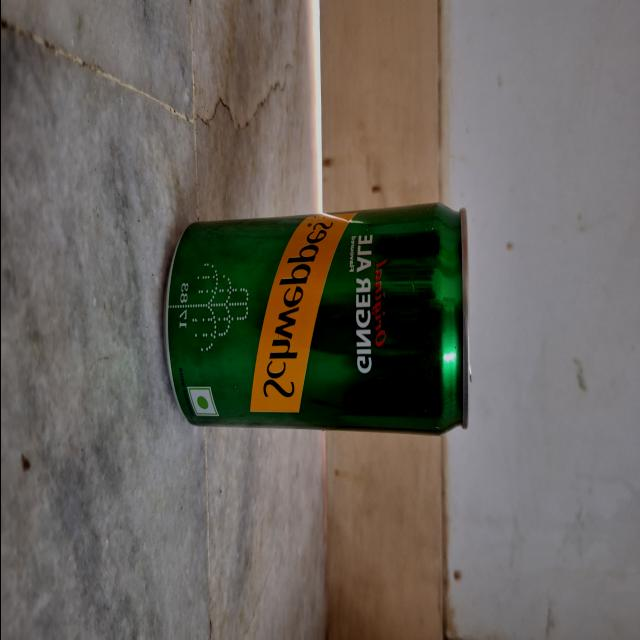Schweppes: (163, 202, 472, 448)
